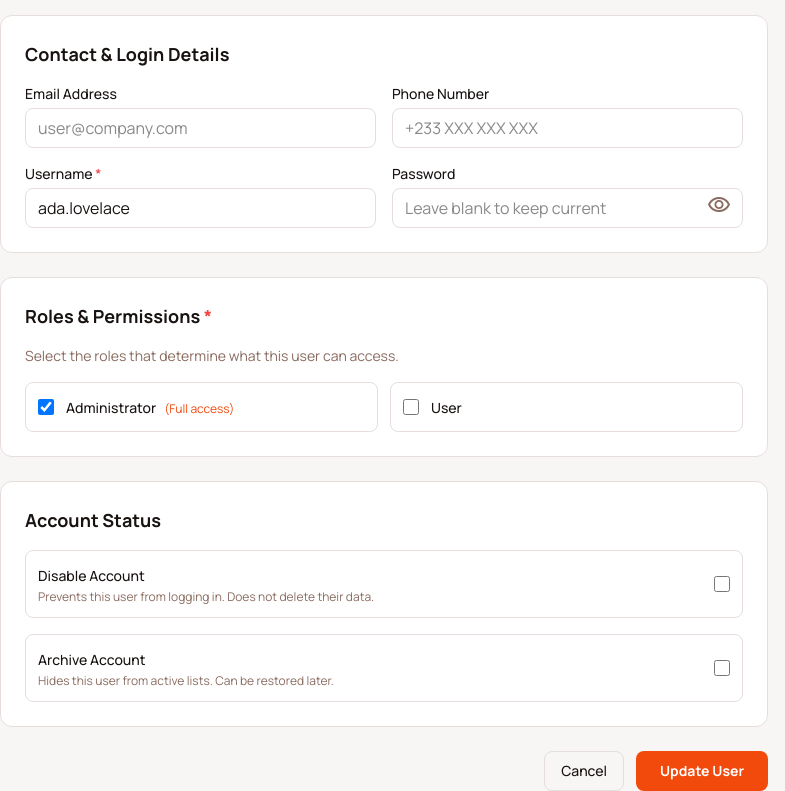
Scenario: UserFormPage edit mode (SOUPFIN-45) › surfaces a backend failure on update instead of failing silently
(page scrolled)
Click the button with test id "user-form-submit-button". click: (702,771)
box: x1=636 y1=751 x2=768 y2=790
(page scrolled)
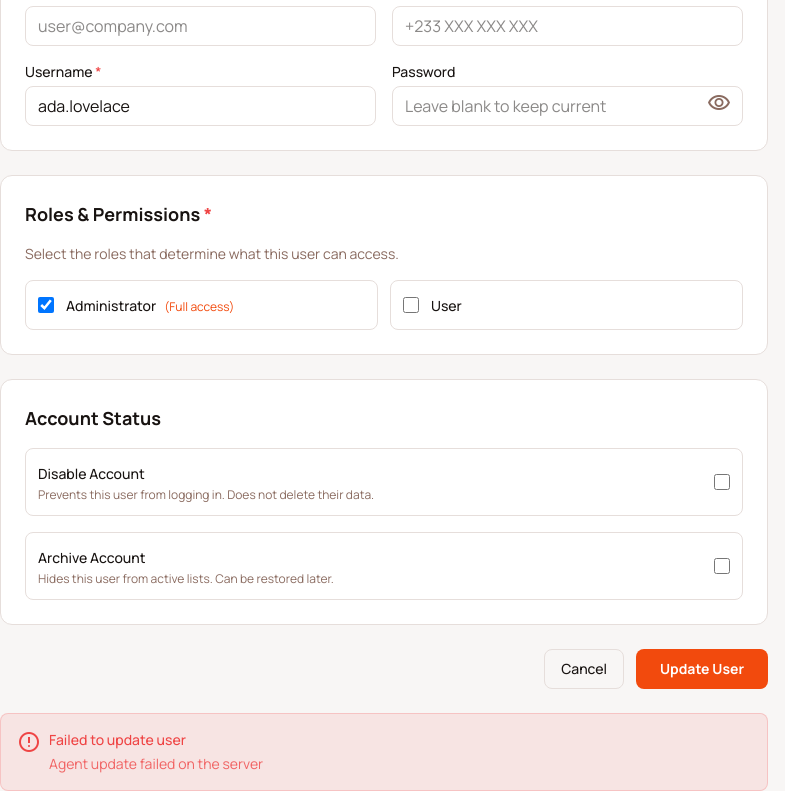
Now the message with test id "user-form-submit-error" shows "Agent update failed on the server", box x1=49 y1=754 x2=263 y2=773
